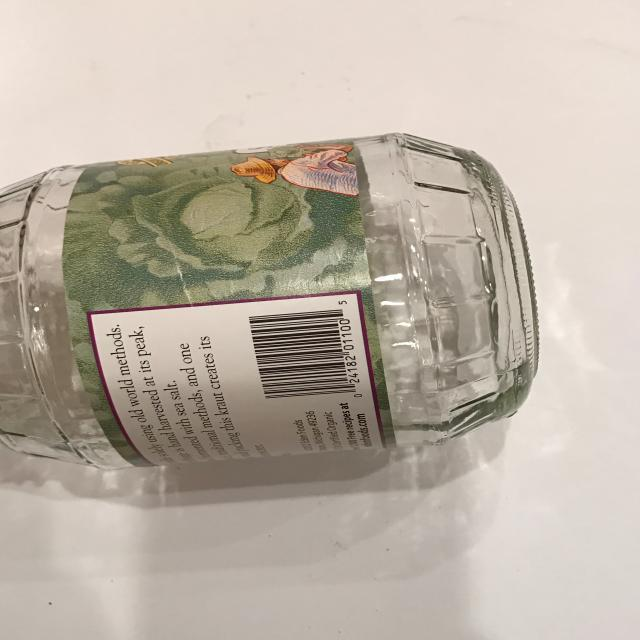glass: (0, 132, 541, 469)
